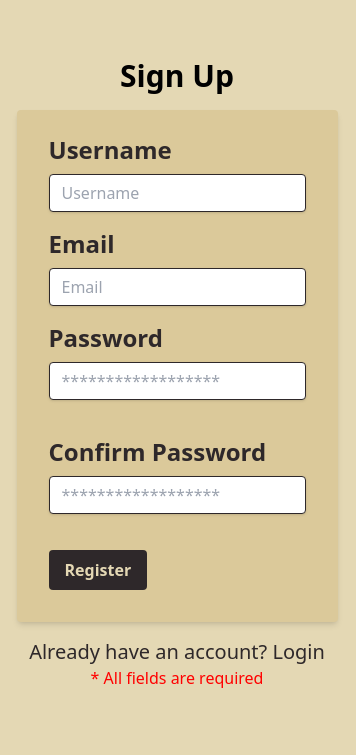
it: test for login page component › should show error messages if the user tries to submit without entering any values
Expected: the text with test id "allRequired" reads "* All fields are required", [91,667,263,689]
Click the button with test id "signupButton" at point(98, 570), box [48,550,147,590]
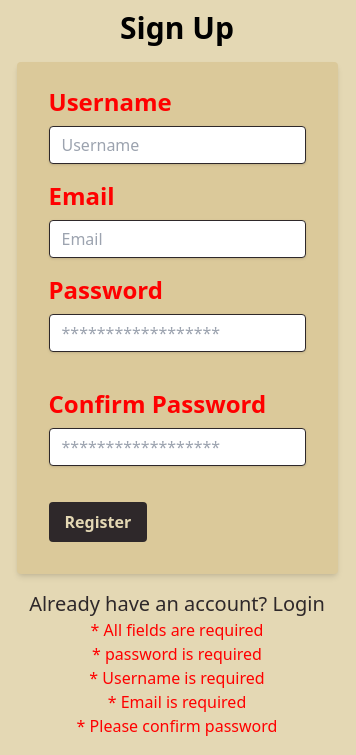
Expected: the text "* password is required" is shown, [92,642,262,666]
Expected: the text "* Username is required" is shown, [89,666,265,690]
Expected: the text "* Email is required" is shown, [108,690,246,714]
